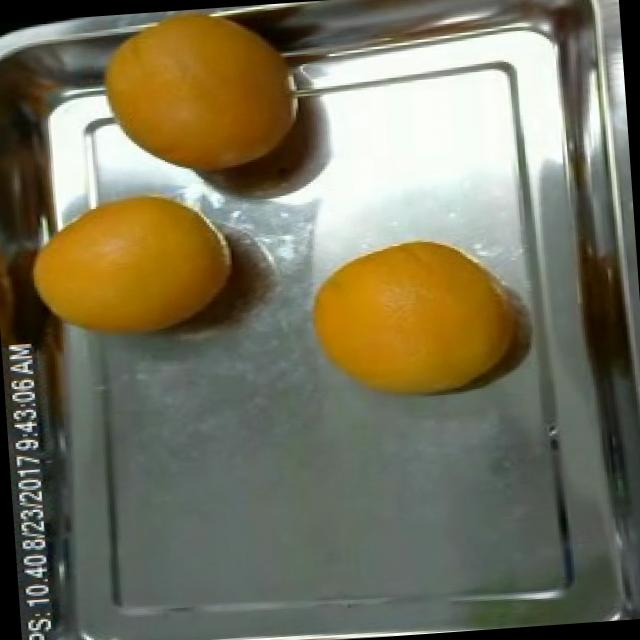Fruit: (4, 160, 243, 363), (70, 5, 310, 202)
